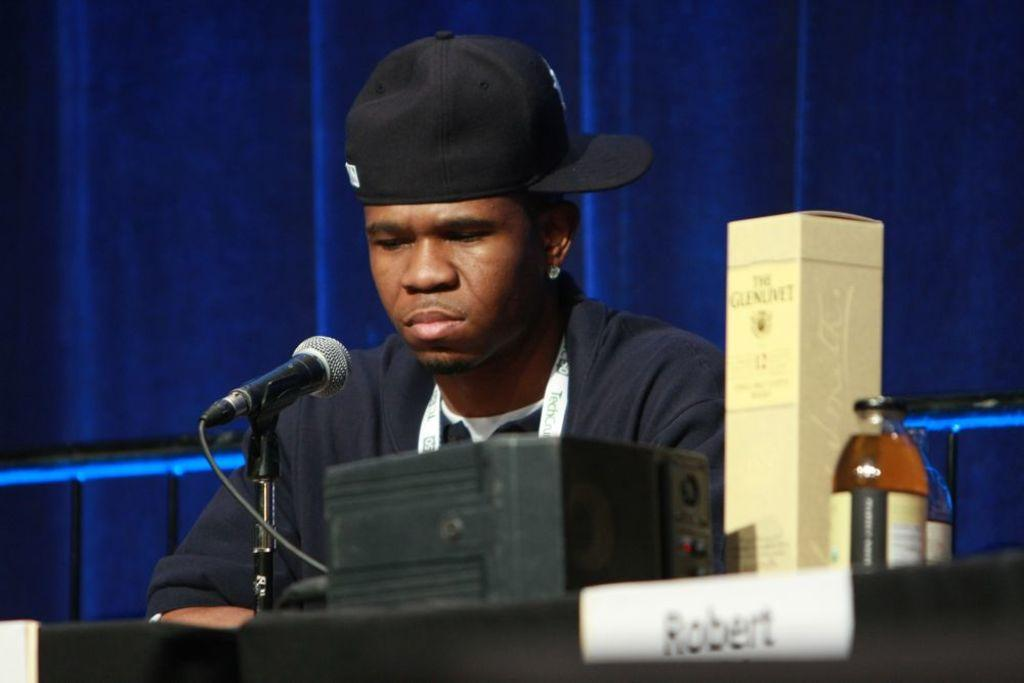Hat: (342, 31, 650, 204)
